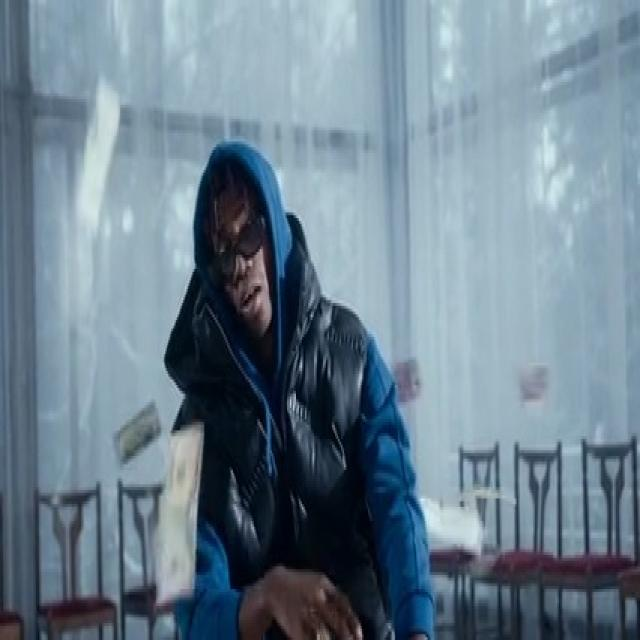Jacket_Wearer: (179, 263, 430, 640)
Person: (172, 150, 459, 640)
